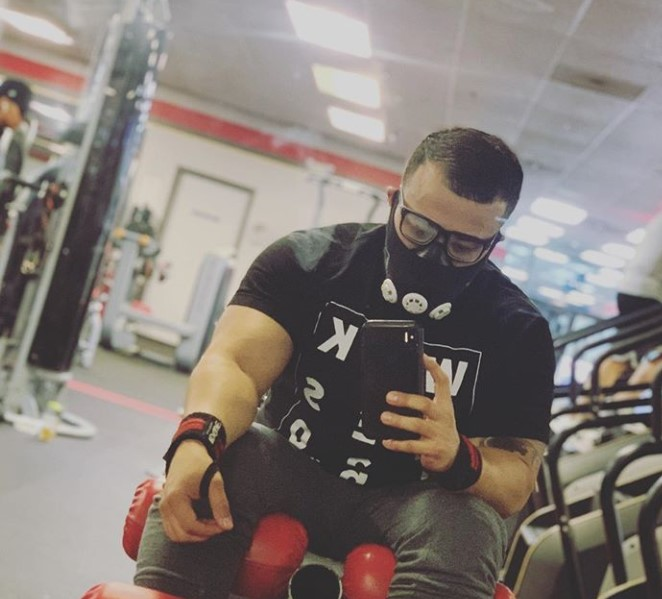face_with_mask: (387, 130, 525, 321)
